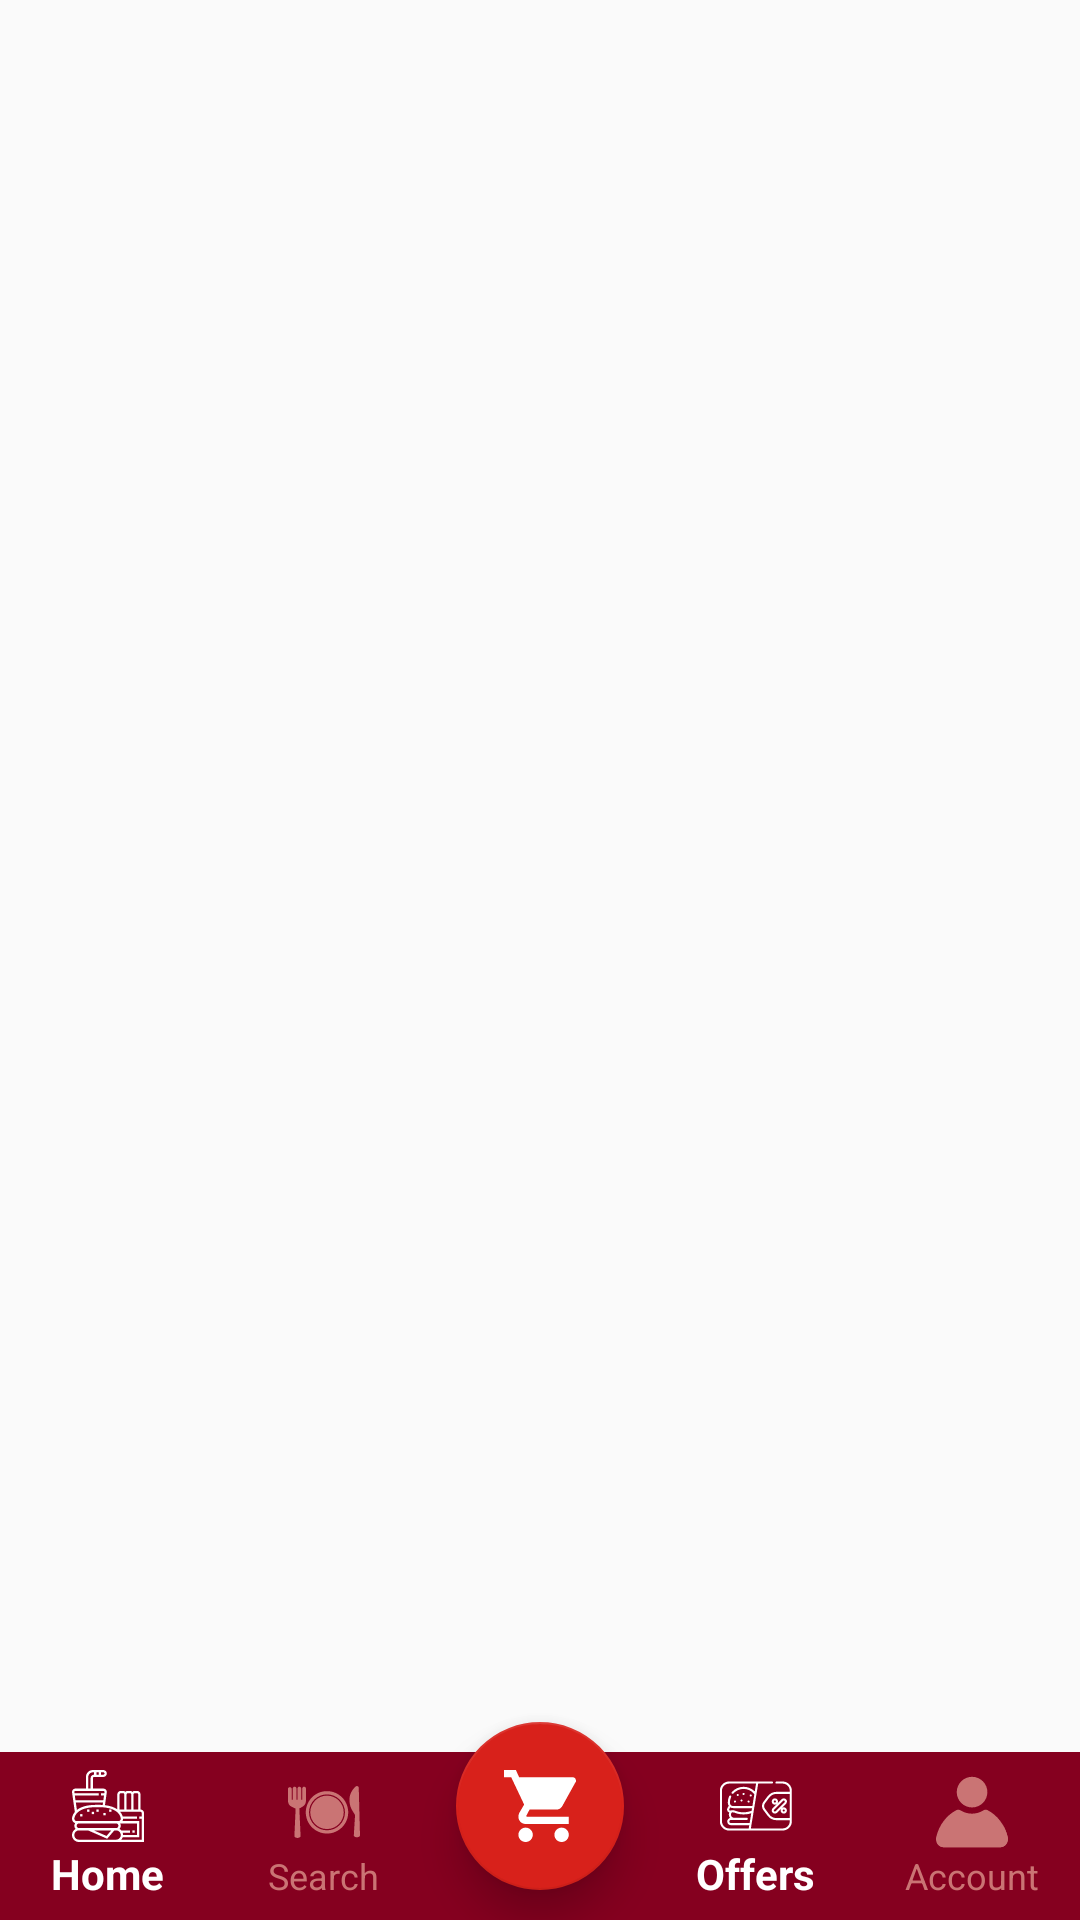

Icon click points for this 1080×1920 phone screenshot, format point (x, y):
shopping cart: point (540, 1806)
